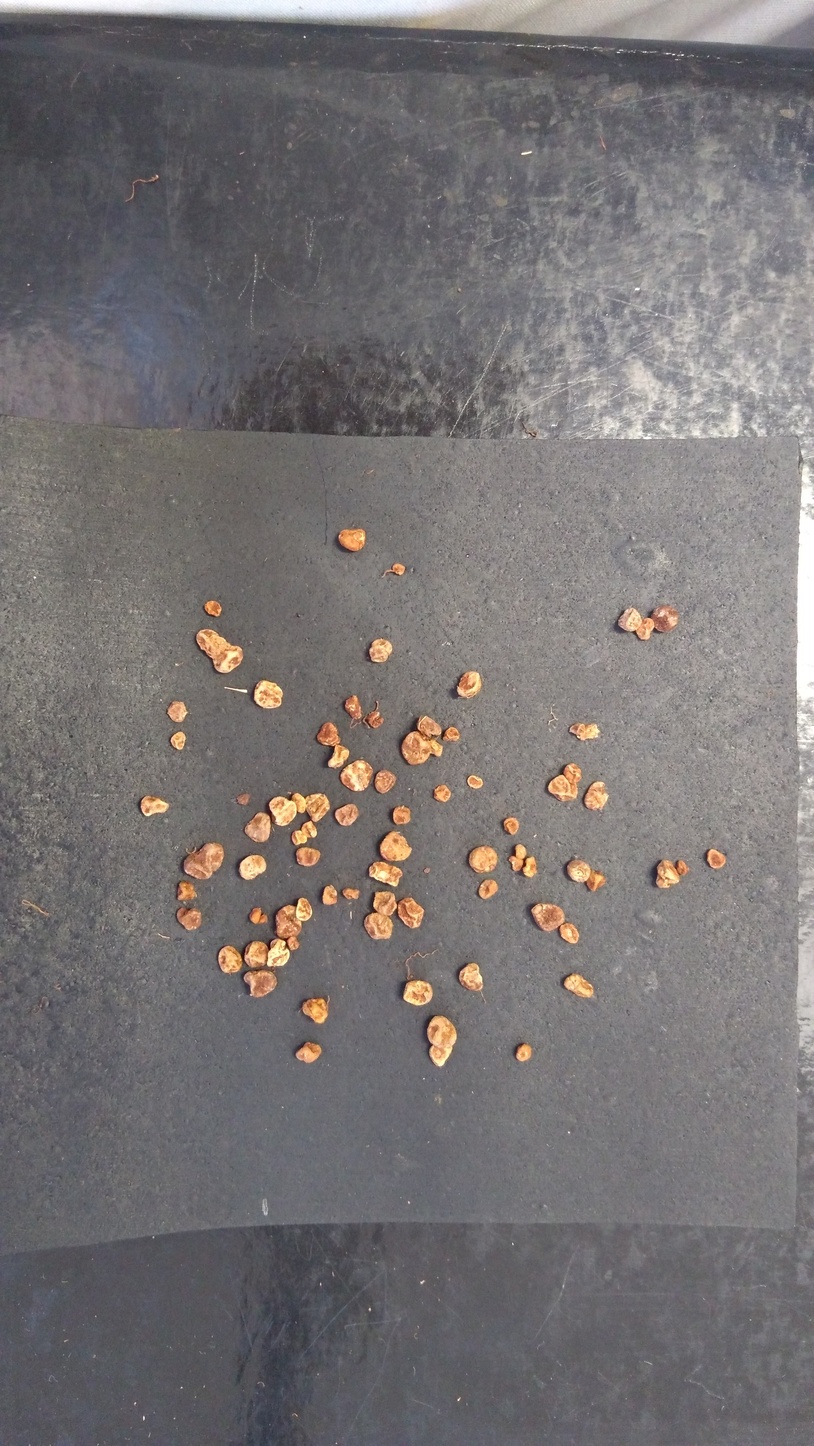nodule: (208, 636, 243, 674), (400, 730, 432, 765), (340, 760, 373, 792), (380, 830, 413, 861), (531, 902, 565, 932), (427, 1015, 457, 1048), (275, 904, 302, 939), (253, 679, 283, 710), (268, 796, 297, 828), (396, 896, 424, 929), (244, 970, 277, 998), (368, 861, 403, 887), (468, 845, 498, 874), (547, 774, 578, 802), (650, 604, 679, 633), (243, 812, 271, 842), (403, 979, 434, 1006), (183, 852, 213, 879), (363, 913, 394, 939), (562, 973, 594, 998), (583, 780, 609, 810), (239, 854, 267, 881), (304, 793, 330, 822), (199, 841, 224, 871), (217, 945, 243, 973), (266, 939, 291, 968), (302, 998, 329, 1024), (338, 527, 366, 552), (244, 940, 269, 968), (458, 963, 483, 991), (139, 794, 169, 817), (457, 670, 482, 697), (372, 891, 397, 916), (656, 858, 680, 884), (196, 629, 220, 654), (316, 722, 341, 746), (374, 768, 397, 794), (176, 907, 202, 930), (617, 607, 641, 631), (327, 744, 350, 769), (334, 804, 359, 827), (428, 1044, 453, 1067), (295, 1042, 322, 1063), (567, 859, 590, 882), (295, 846, 321, 866), (417, 715, 441, 736), (477, 878, 498, 900), (559, 922, 579, 945), (635, 617, 654, 641), (345, 694, 363, 719), (167, 701, 188, 722), (586, 870, 606, 891), (296, 896, 313, 920), (391, 806, 412, 825), (563, 762, 581, 784), (176, 880, 195, 900), (707, 848, 726, 868), (371, 638, 392, 656), (577, 723, 599, 740), (369, 645, 389, 663), (521, 856, 537, 878), (204, 599, 223, 617), (433, 784, 451, 803), (169, 730, 186, 750), (322, 884, 338, 905), (291, 793, 306, 814), (367, 711, 385, 728), (515, 1043, 532, 1061), (428, 739, 444, 758), (301, 820, 317, 839), (503, 816, 519, 835), (508, 855, 523, 872), (342, 887, 360, 901), (291, 830, 307, 845), (443, 726, 459, 741), (248, 907, 262, 924), (655, 873, 670, 888), (675, 860, 689, 875), (568, 722, 584, 735), (467, 775, 483, 788), (286, 936, 300, 950), (391, 562, 406, 575), (515, 844, 526, 860), (236, 793, 250, 805), (258, 913, 267, 925)
